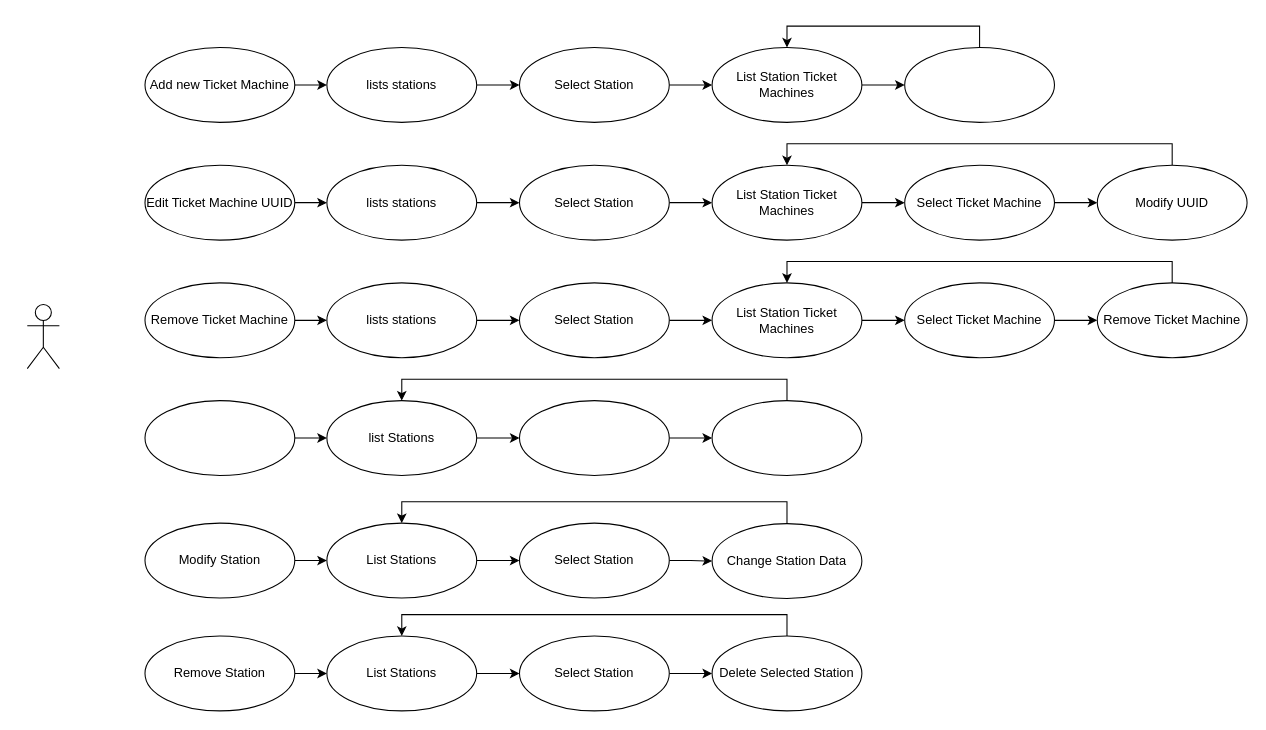
This 1266x730 diagram has some shape labels left out. Here are the shapes that lost their labels. From the top down, the centre of each, then its label:
At point (979, 84): "Create Ticket Machine".
At point (42, 336): "Operator".
At point (219, 438): "Add New Station".
At point (593, 438): "Create New station".
At point (786, 438): "Change New Station Default details".
